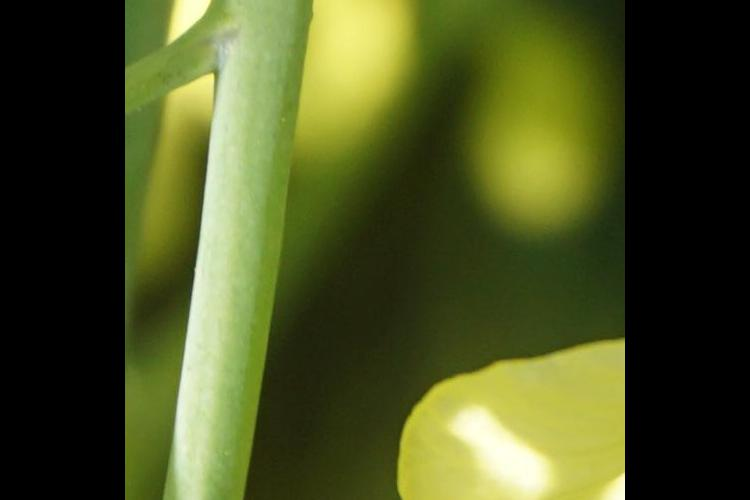yellow: (394, 333, 626, 500)
